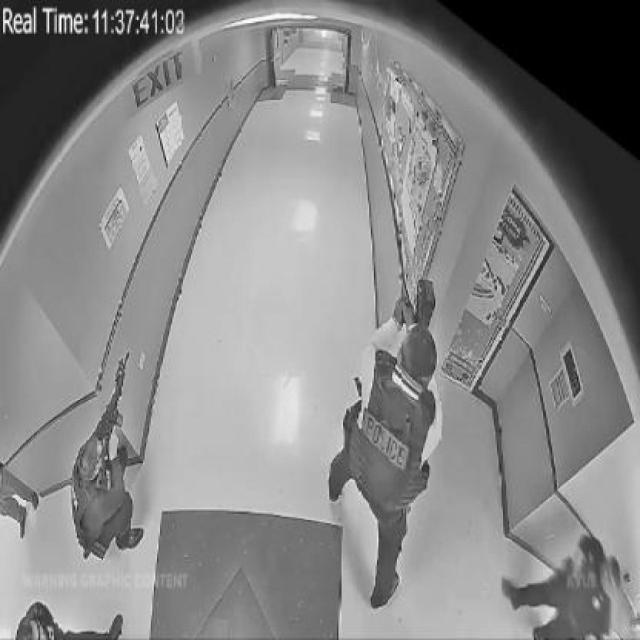weapon: (93, 350, 132, 490), (394, 277, 414, 323)
